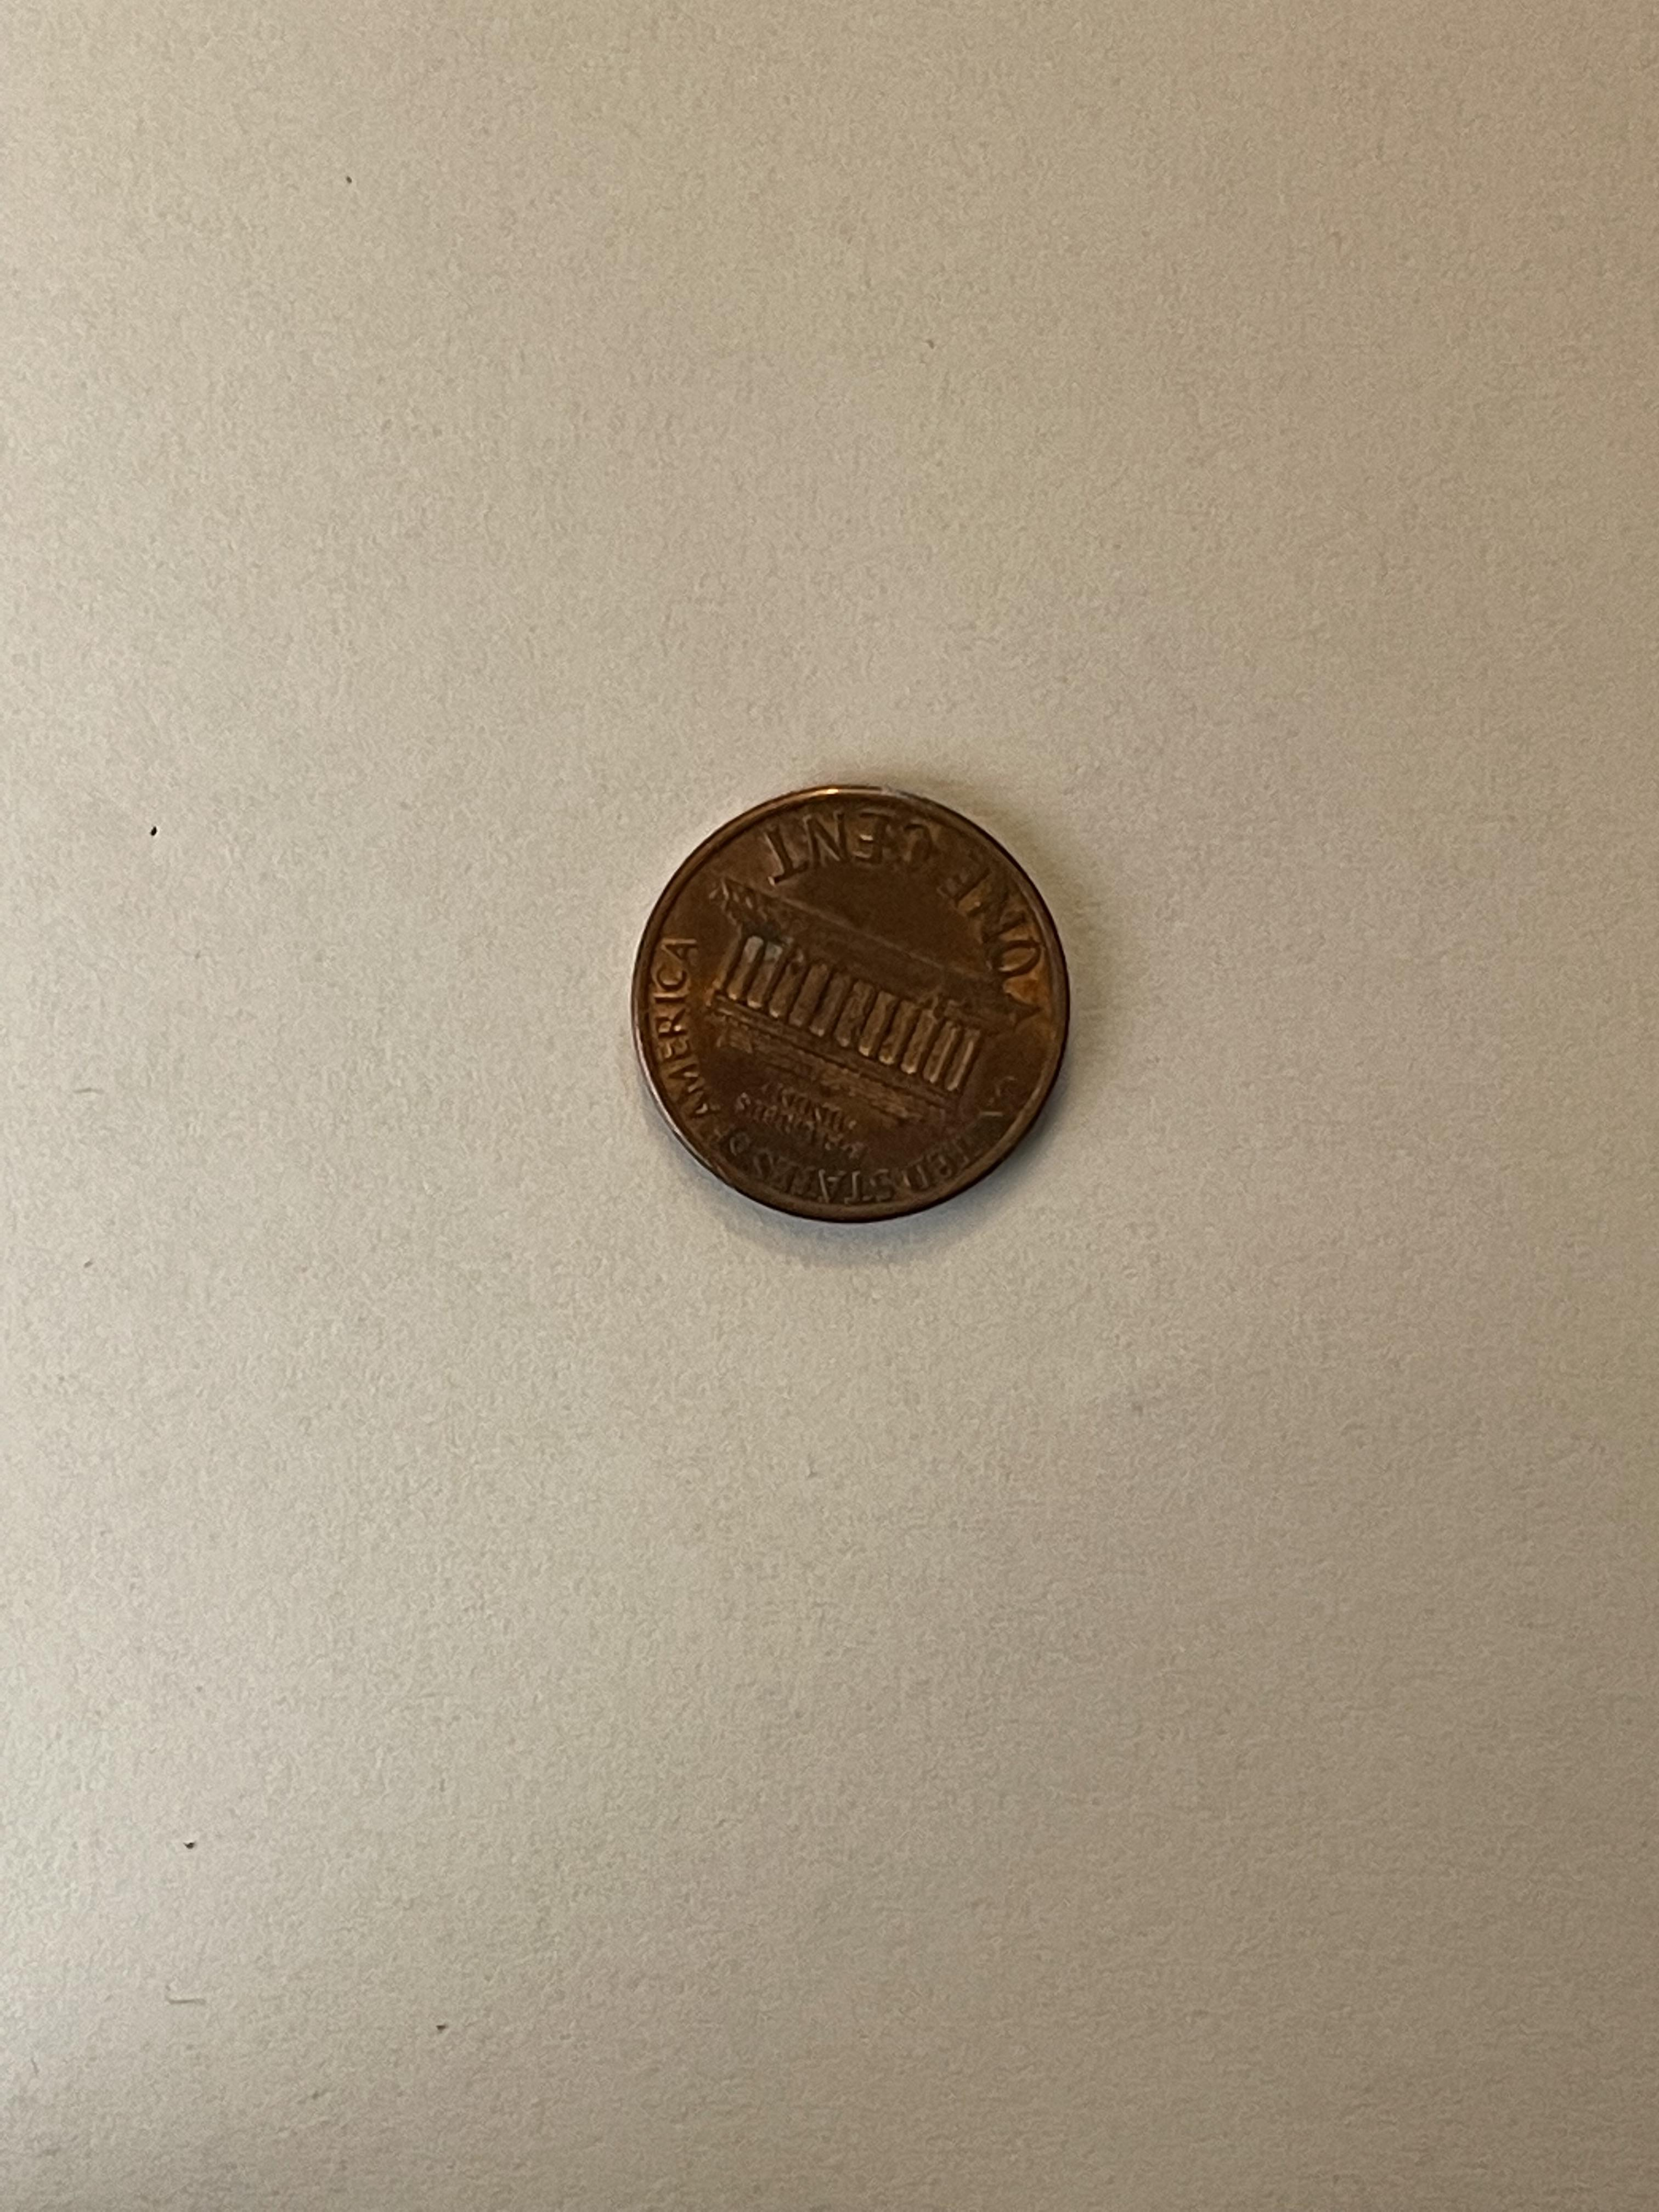Penny: (627, 782, 1072, 1224)
